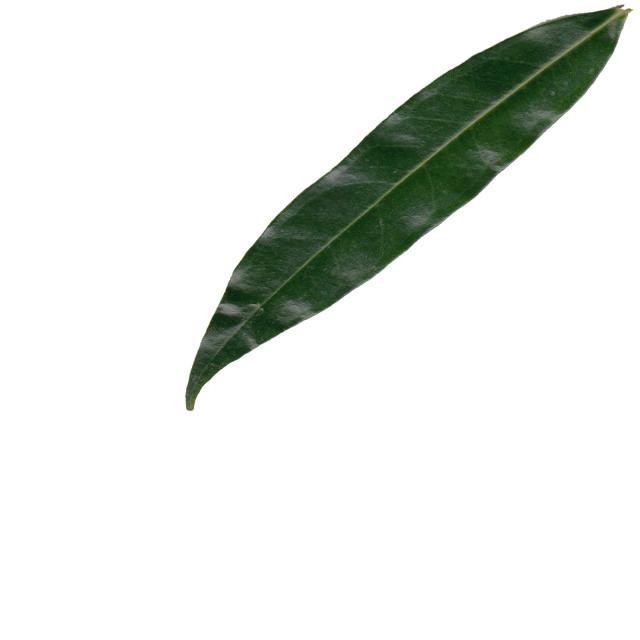Medicinal-Rose Apple: (185, 6, 629, 410)
